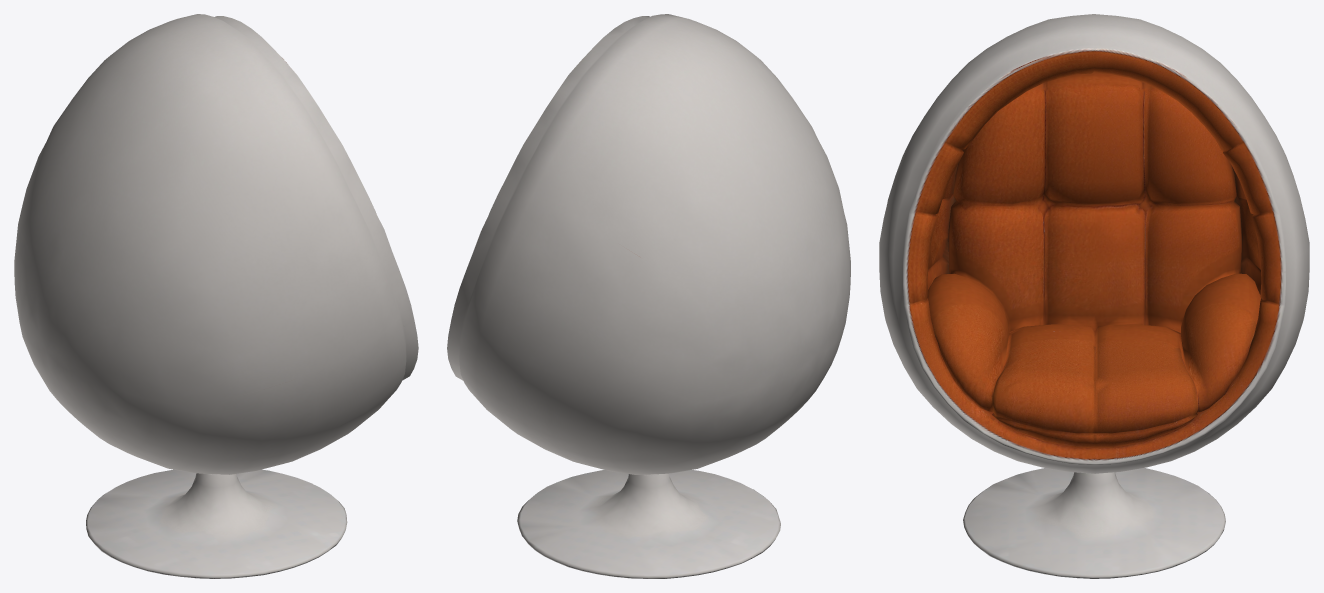
The picture shows the model from 3 angles, left to right: view 1: azimuth 30°, elevation 25°; view 2: azimuth 150°, elevation 25°; view 3: azimuth 270°, elevation 25°; orthographic projection.
Parts seen in each view (by area): view 1: tripo_node_1ff8b6e1-94f0-4f81-829d-fc962884edf4; view 2: tripo_node_1ff8b6e1-94f0-4f81-829d-fc962884edf4; view 3: tripo_node_1ff8b6e1-94f0-4f81-829d-fc962884edf4.
Part boxes in pixels (box(x1,y1,x2,y2)): tripo_node_1ff8b6e1-94f0-4f81-829d-fc962884edf4: box(14, 14, 418, 578); tripo_node_1ff8b6e1-94f0-4f81-829d-fc962884edf4: box(447, 14, 850, 578); tripo_node_1ff8b6e1-94f0-4f81-829d-fc962884edf4: box(879, 14, 1309, 578).
Size of the model in its own units: 0.6855 by 0.998 by 0.7832.
Materials: 1 (1 with a texture image).
